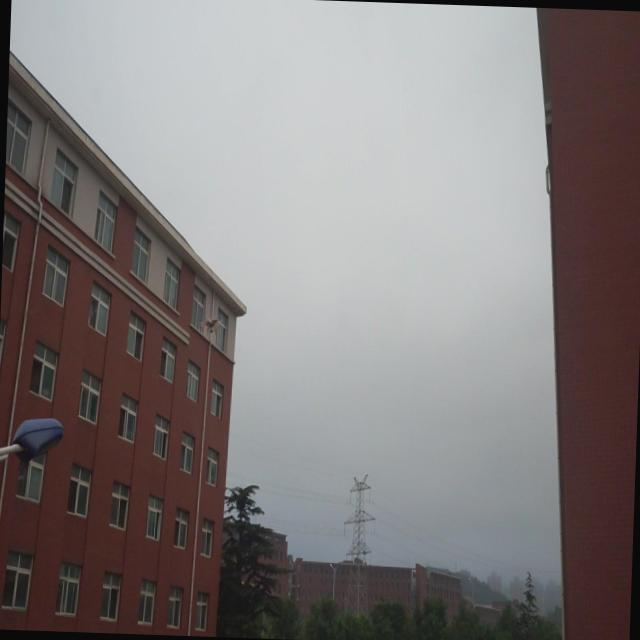drone: (202, 312, 219, 336)
